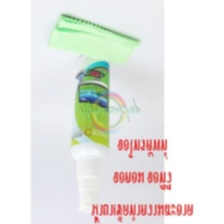cleaning_solution: (66, 51, 113, 214)
